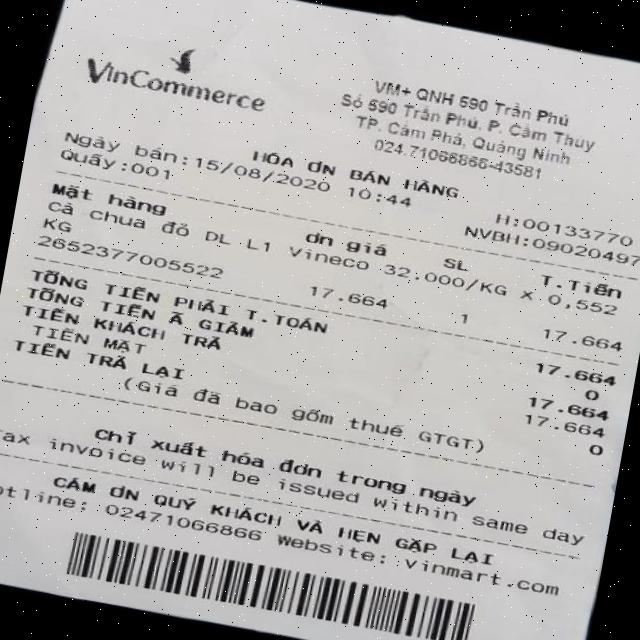Date: (184, 151, 338, 198)
Store_Name: (72, 20, 294, 129)
amount_number: (514, 352, 630, 393)
label_total: (26, 260, 333, 342)
